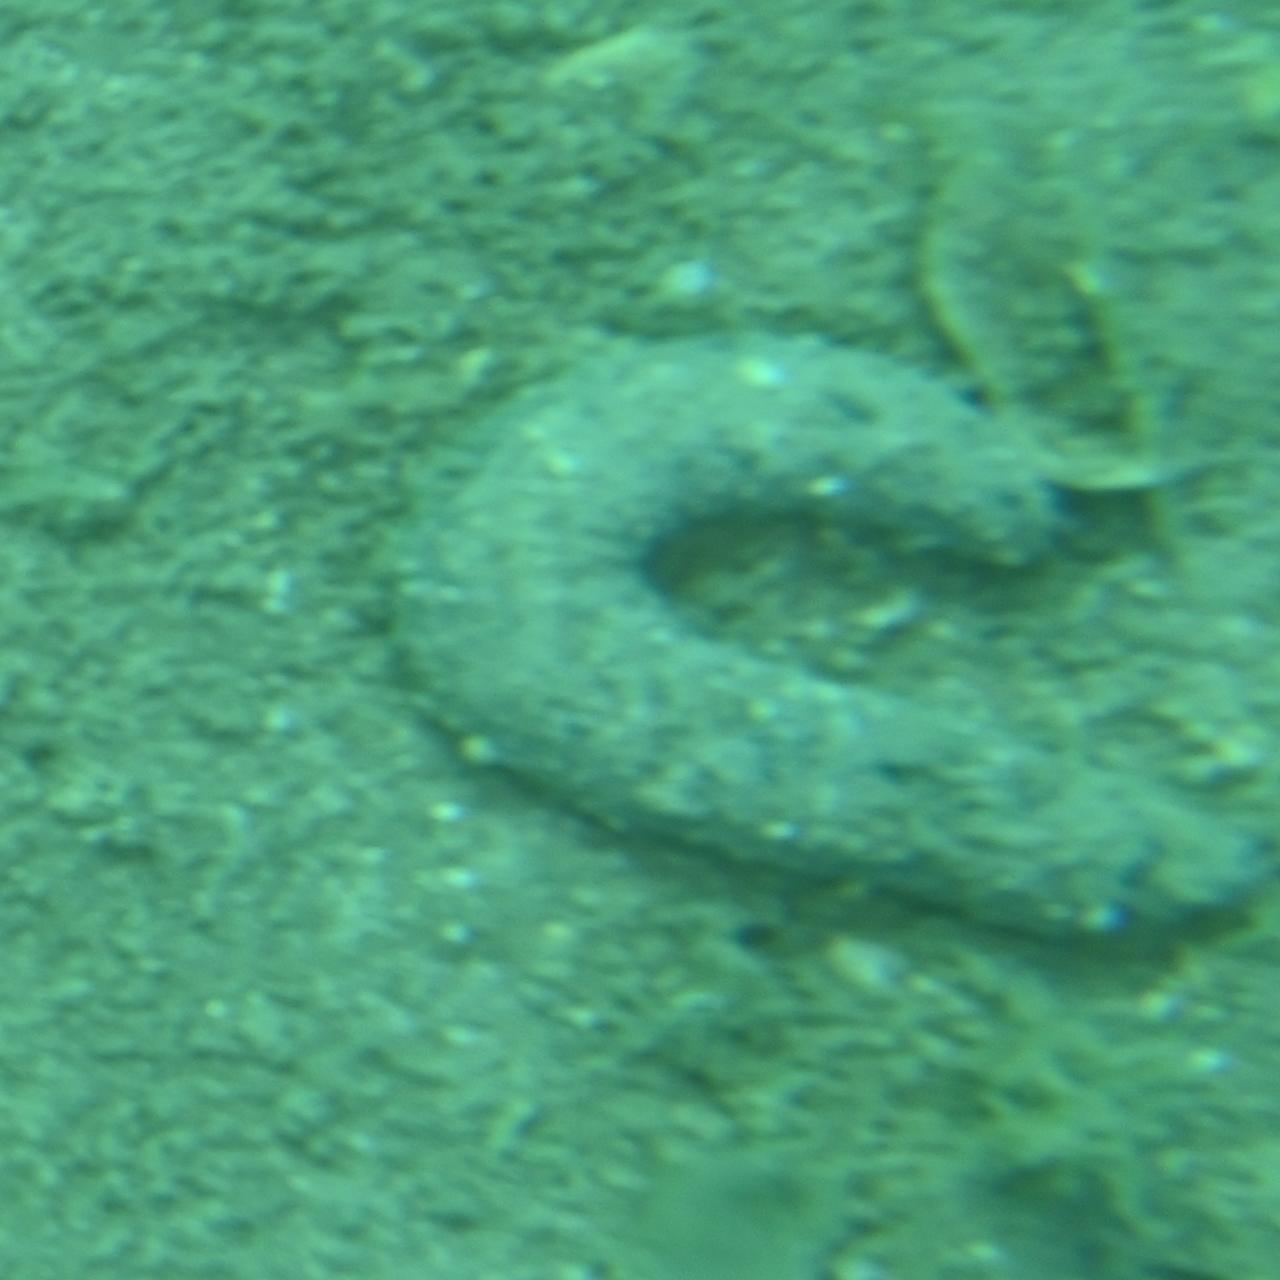Holothuria tubulosa: (375, 322, 1277, 958)
